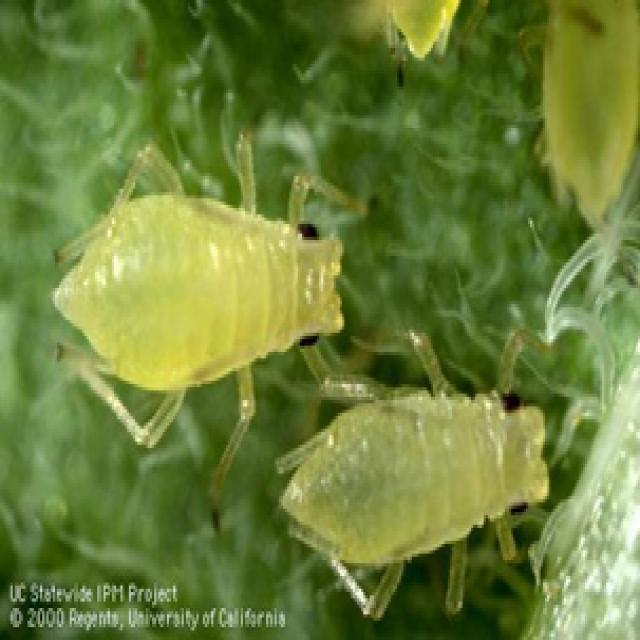Aphid-Grown-: (28, 116, 358, 452), (283, 318, 584, 624)
